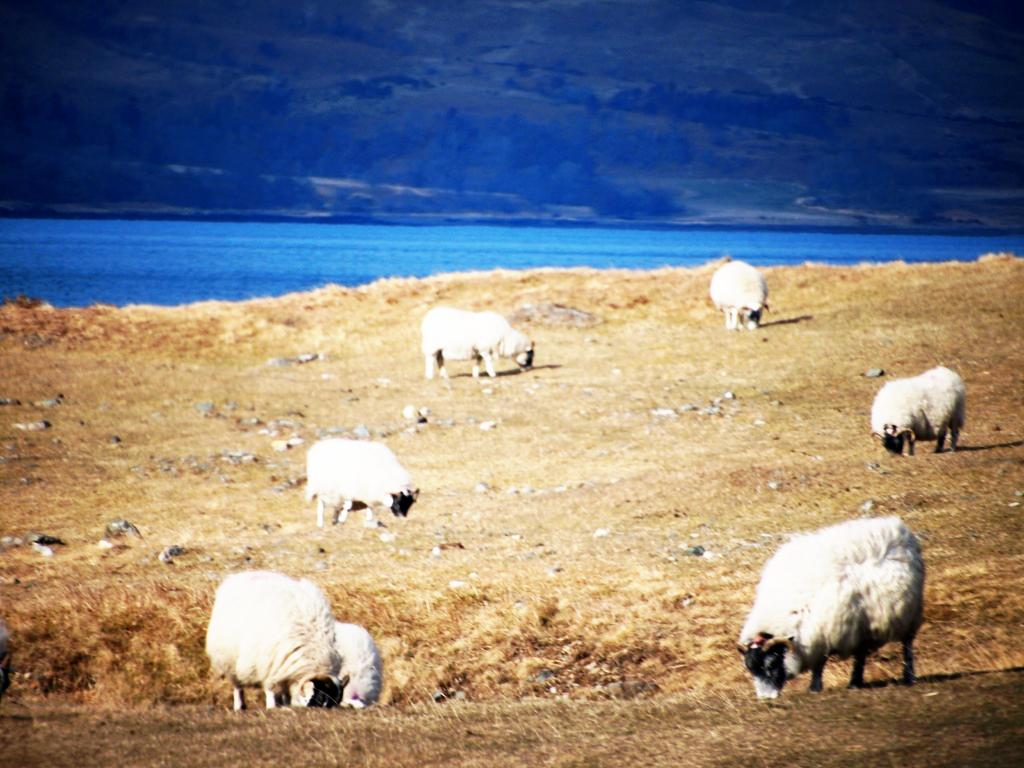Sheep: (732, 501, 939, 712), (199, 572, 353, 716), (305, 435, 420, 528), (872, 362, 965, 458), (419, 304, 538, 379), (707, 256, 772, 326), (336, 626, 384, 712)
